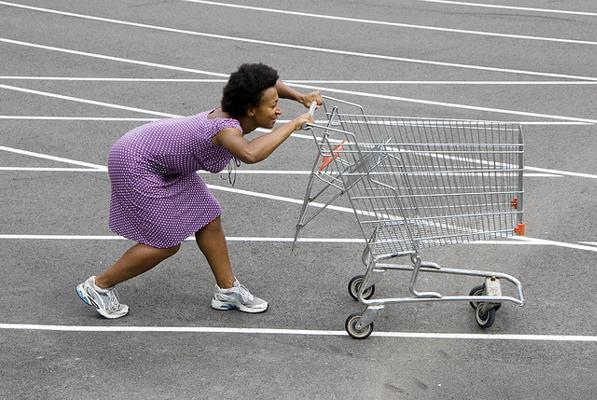person: (74, 63, 324, 321)
